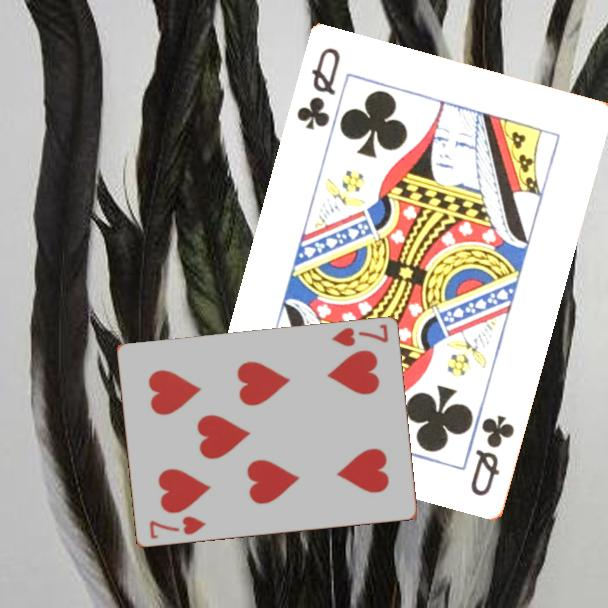c12: (293, 44, 344, 134), (467, 412, 518, 500)
h07: (146, 513, 209, 542), (328, 321, 391, 350)
